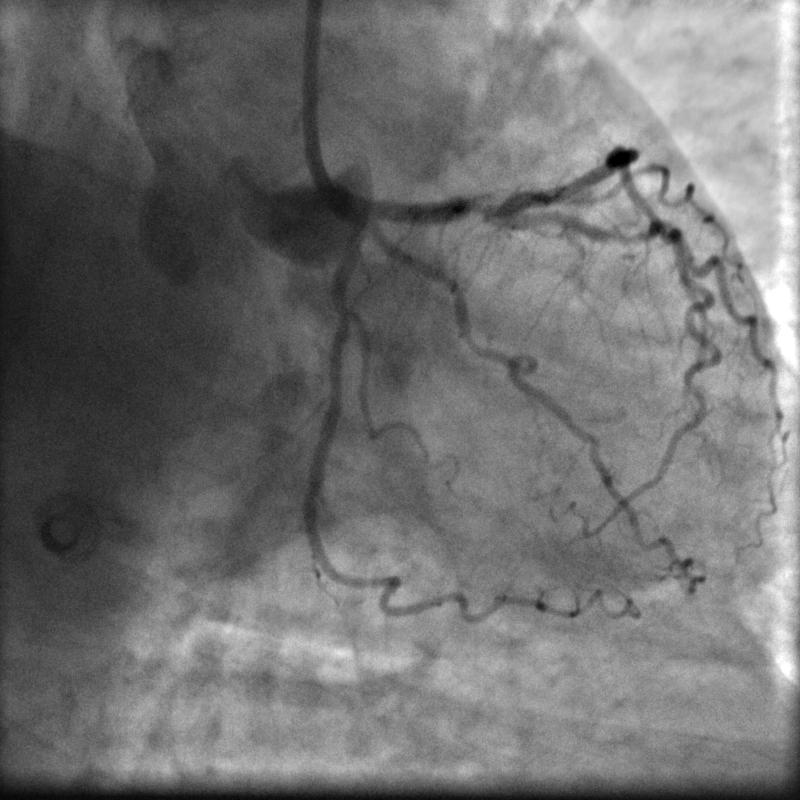Stenosis: (459, 191, 498, 228)
